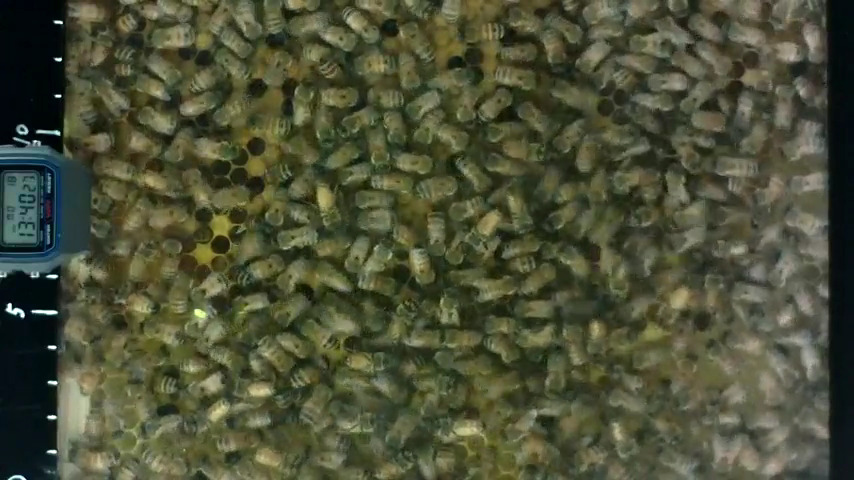hati: (393, 18, 440, 67), (246, 113, 293, 143), (149, 23, 196, 52), (473, 273, 518, 302), (491, 65, 541, 91), (408, 244, 435, 291), (263, 46, 293, 88), (137, 105, 179, 135), (476, 88, 513, 122), (349, 52, 397, 77), (273, 226, 319, 252), (412, 176, 461, 200), (190, 137, 238, 161), (452, 21, 506, 42), (349, 189, 399, 211), (365, 85, 406, 110)
